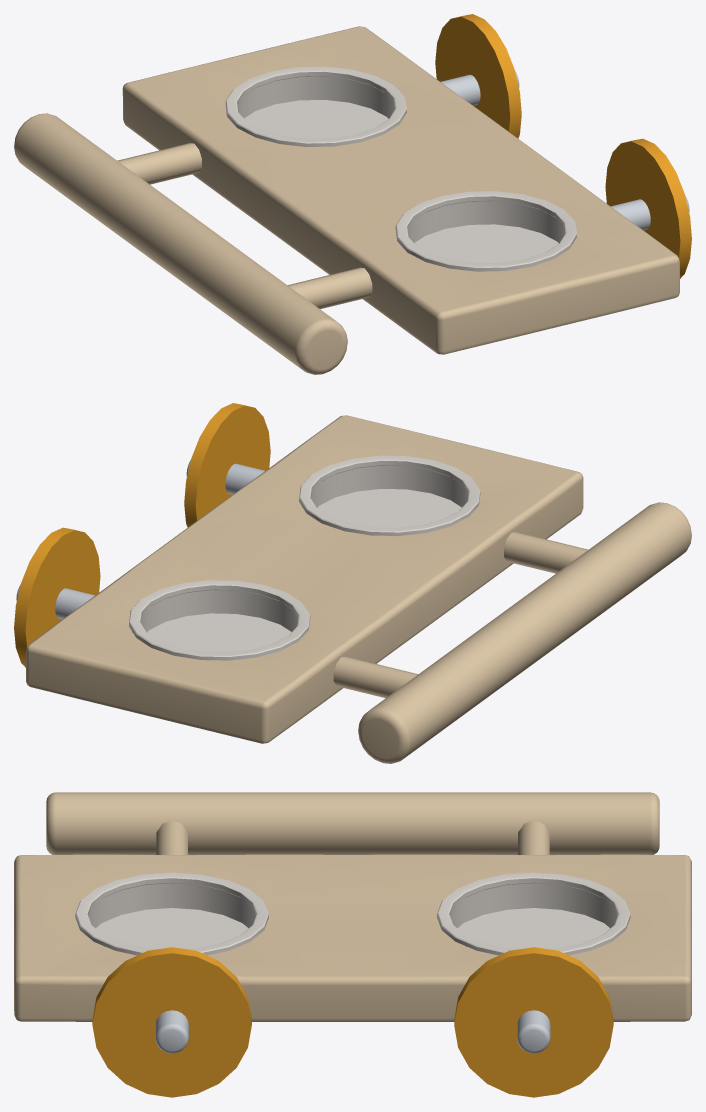
File: SM_HangingFeeder.fbx
3 views of the same model, one above another, from view 1: azimuth 30°, elevation 25°; view 2: azimuth 150°, elevation 25°; view 3: azimuth 270°, elevation 25° (orthographic). The views are drawn at different scales.
Parts seen in each view (by area): view 1: SM_Holder, pCylinder1, SM_Handle, SM_Stopper, SM_Joints; view 2: SM_Holder, pCylinder1, SM_Handle, SM_Stopper, SM_Joints; view 3: SM_Holder, SM_Handle, SM_Stopper, pCylinder1, SM_Joints.
Part boxes in pixels (x1,y1,x2,y2): SM_Holder: (122,26,679,354); pCylinder1: (225,66,576,271); SM_Handle: (14,113,347,374); SM_Stopper: (435,14,691,278); SM_Joints: (117,71,689,309); SM_Holder: (26,415,583,743); pCylinder1: (129,455,480,660); SM_Handle: (358,502,691,763); SM_Stopper: (14,403,270,667); SM_Joints: (16,460,588,698); SM_Holder: (14,854,691,1021); SM_Handle: (46,792,659,854); SM_Stopper: (92,947,613,1097); pCylinder1: (75,872,630,955); SM_Joints: (155,820,550,1053).
Size of the model in its own units: 44.98 by 13.17 by 56.03.
Materials: 1 (1 with a texture image).
